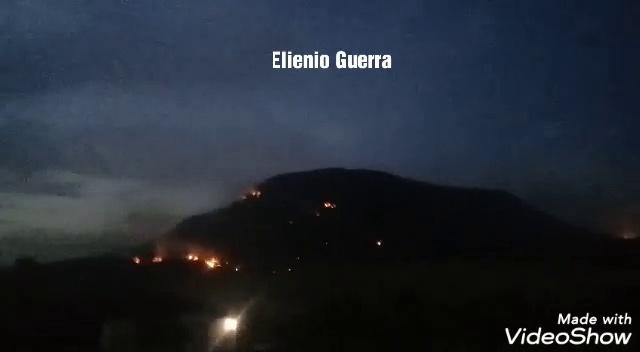fire: (210, 309, 243, 335), (206, 255, 220, 268), (149, 252, 167, 261)
